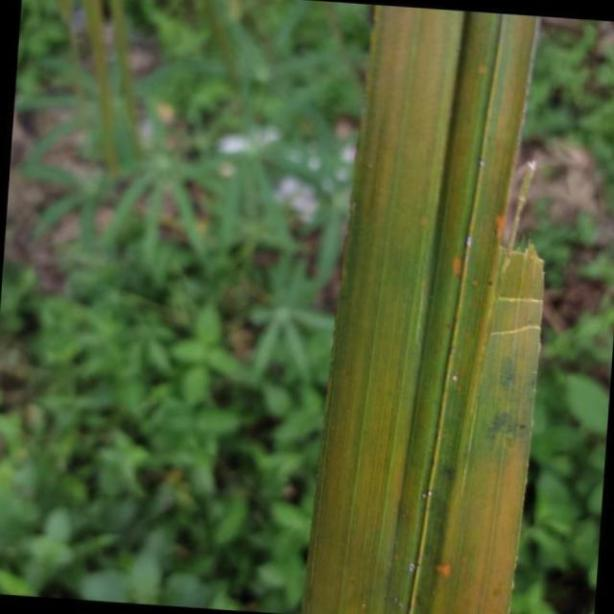Megnesium: (304, 0, 548, 614)
